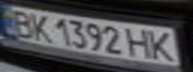1: (48, 16, 72, 47)
2: (103, 24, 127, 56)
3: (66, 18, 87, 50)
9: (84, 20, 106, 52)
B: (3, 8, 39, 38)
H: (124, 26, 154, 60)
K: (145, 29, 181, 62), (27, 11, 54, 43)
